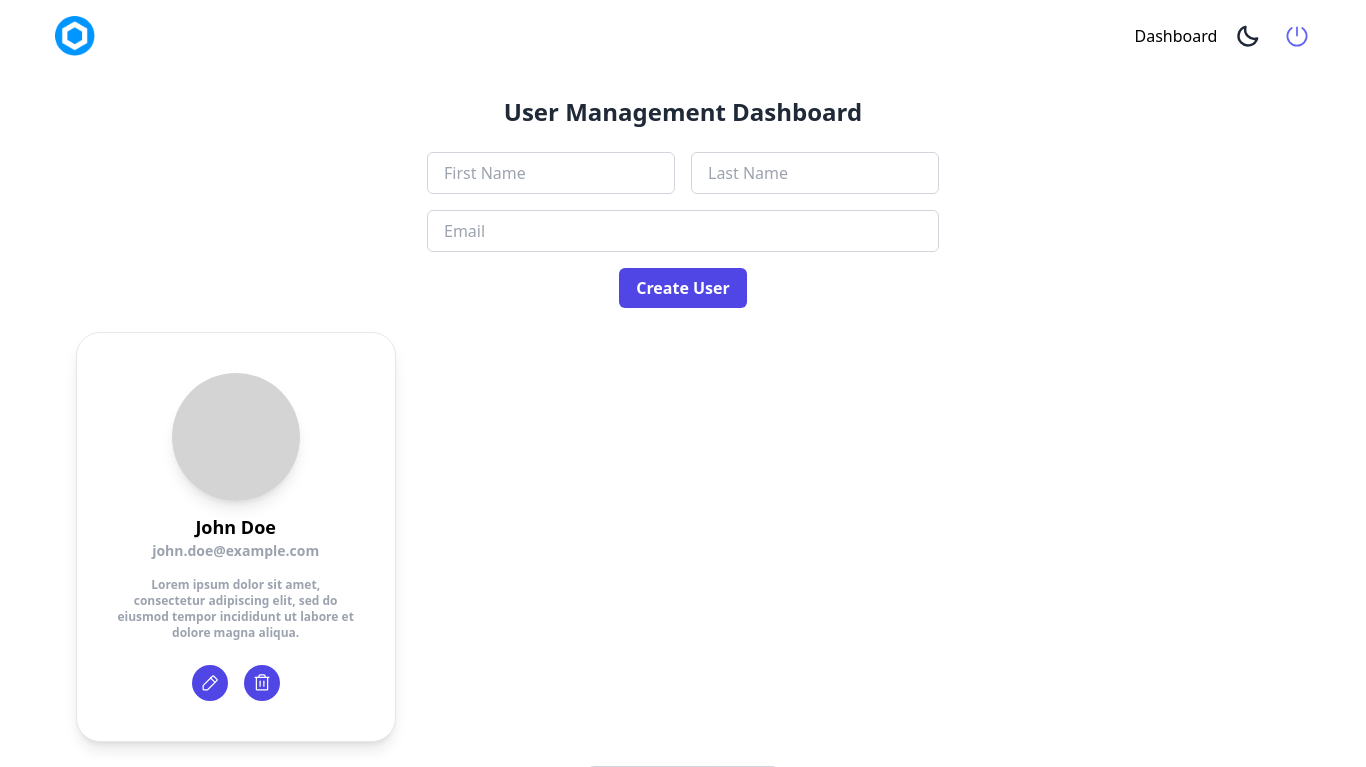
Test: Dashboard Page › should update an existing user and reflect changes in the list
The image size is (1366, 767).
Click the 4th button.
click(210, 683)  # box [192, 665, 228, 701]
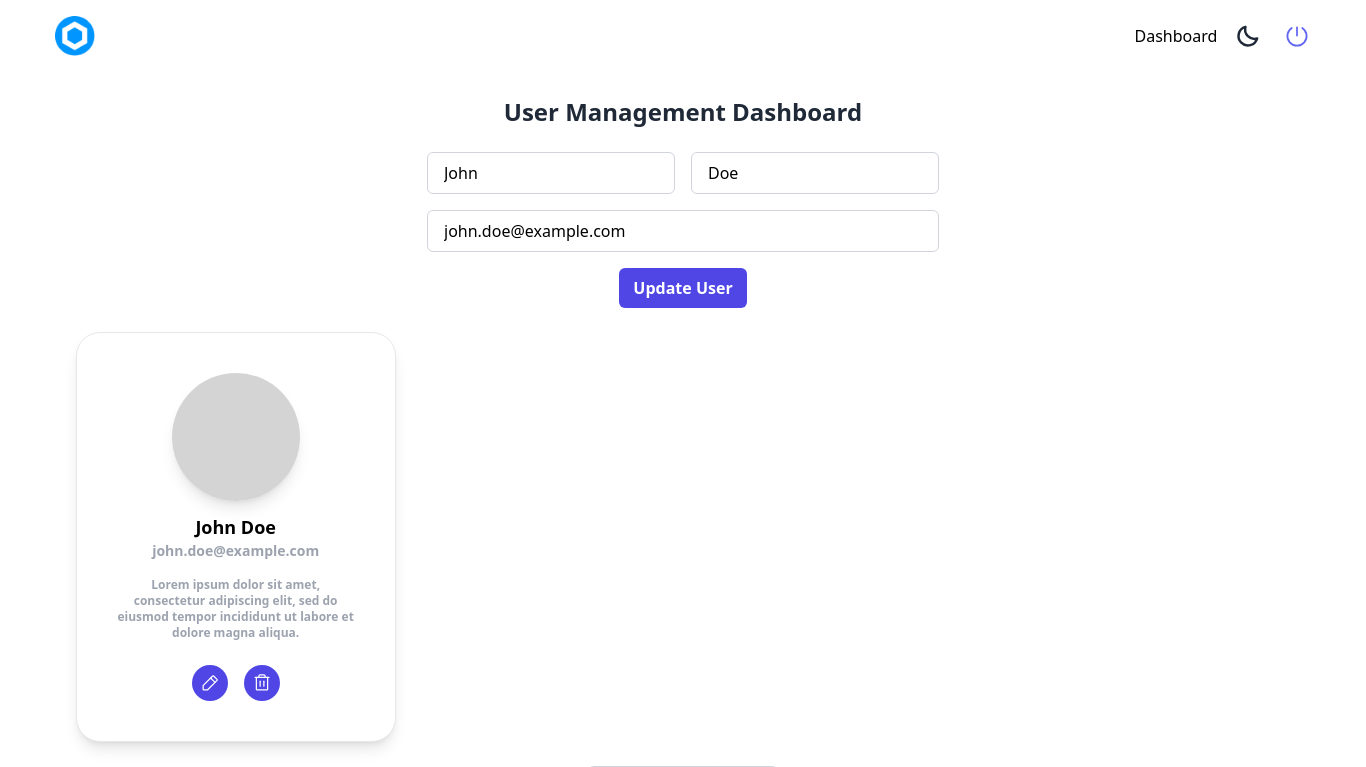
Replace the text in the 1st field with placeholder "First Name" with "Johnny" at (551, 173), box [427, 152, 675, 194]
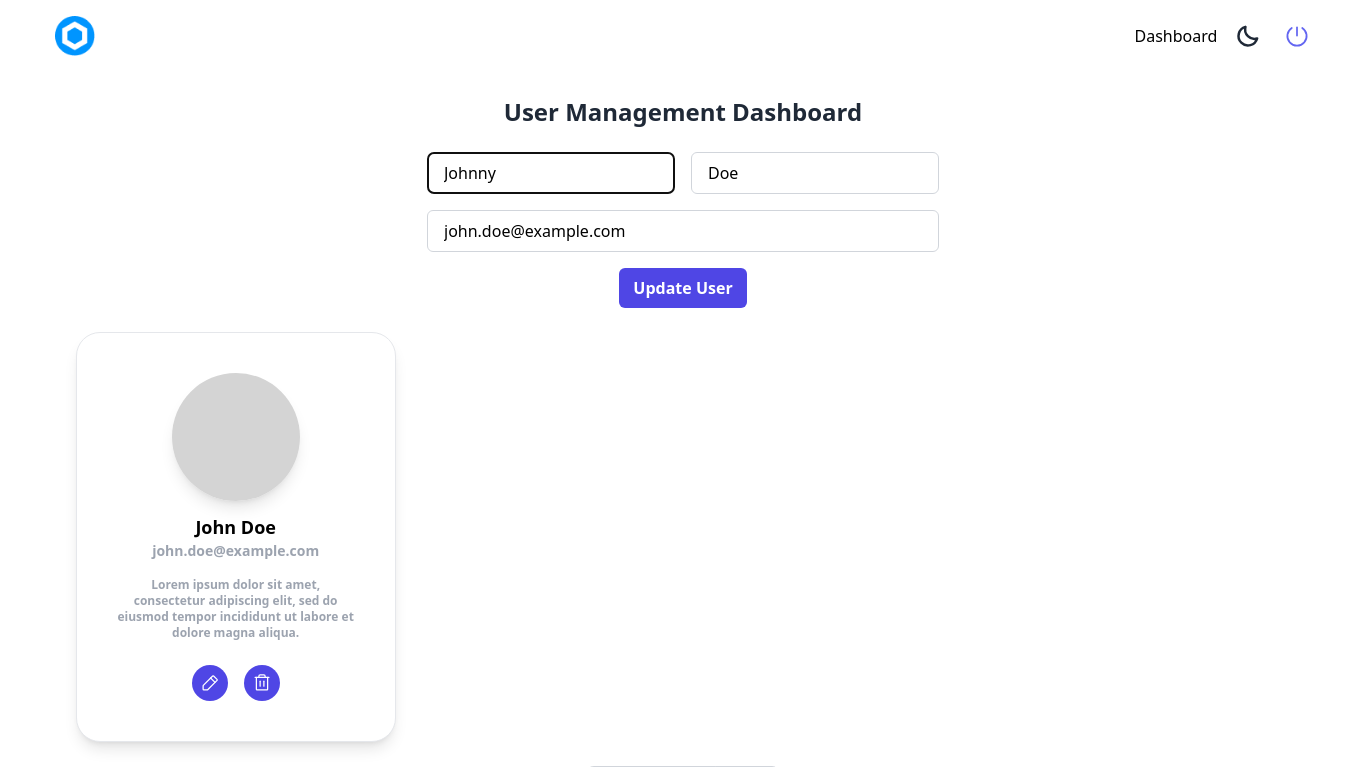
Replace the text in the 2nd field with placeholder "Last Name" with "Smith" at (815, 173), box [691, 152, 939, 194]
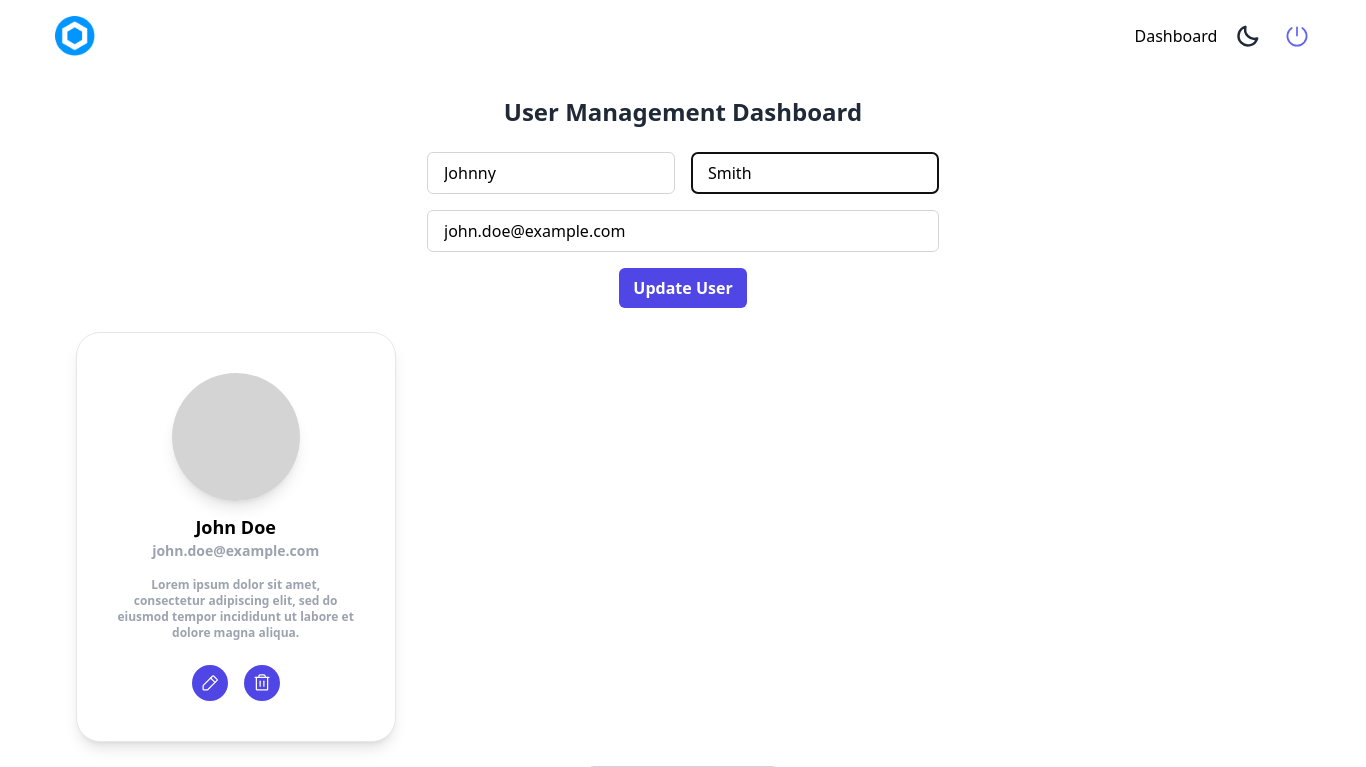
Replace the text in the 3rd field with placeholder "Email" with "johnny.smith@example.com" at (683, 231), box [427, 210, 939, 252]
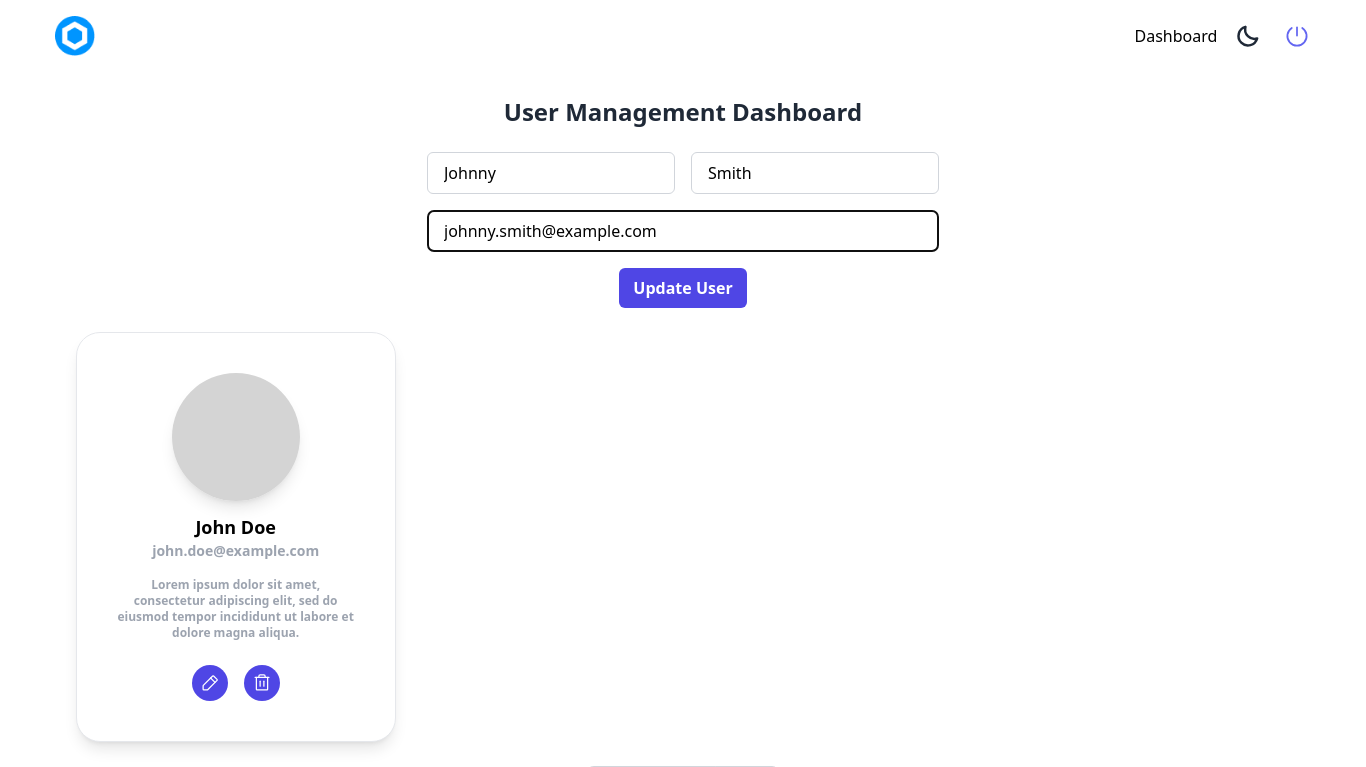
Click the submit button.
click(683, 288)  # box [619, 268, 747, 308]
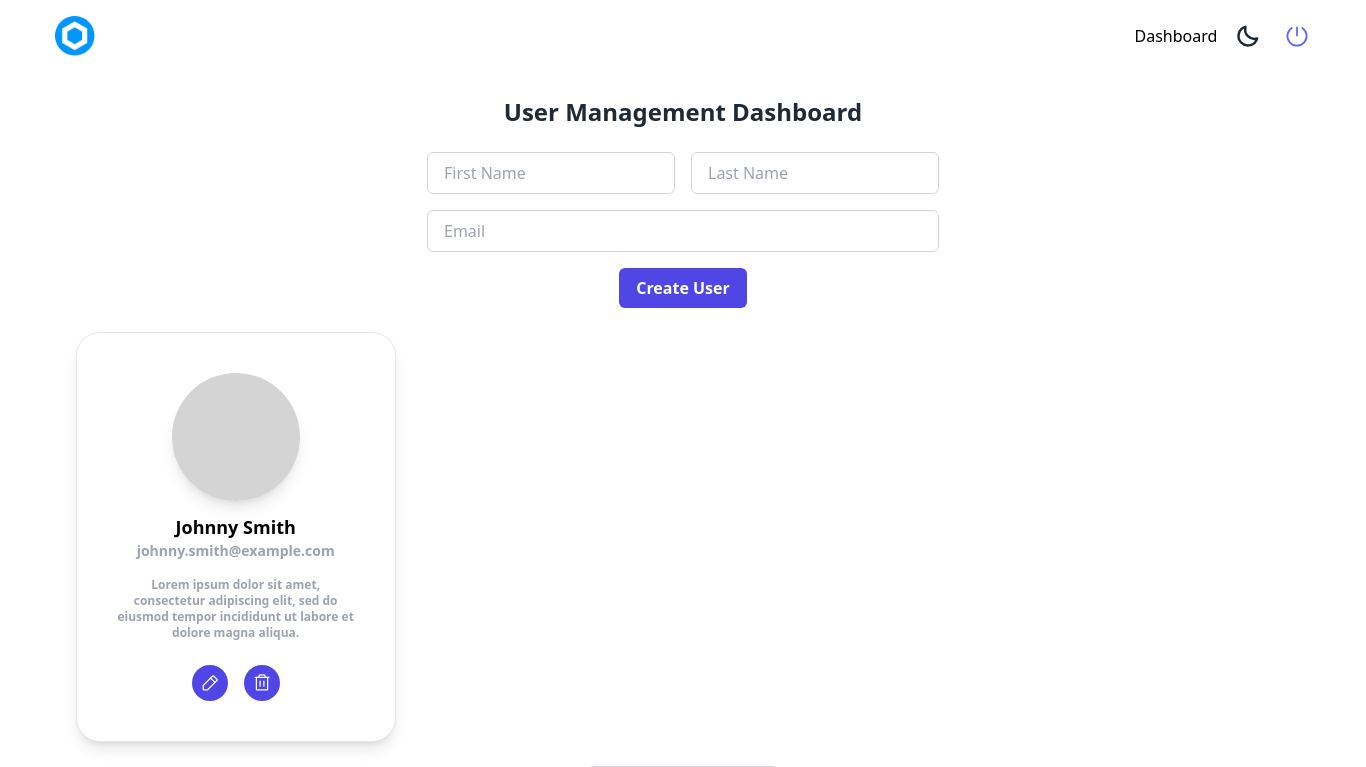
Now the heading "Johnny Smith" is shown, box [176, 515, 296, 539]
Now the heading "johnny.smith@example.com" is shown, box [137, 541, 335, 560]
